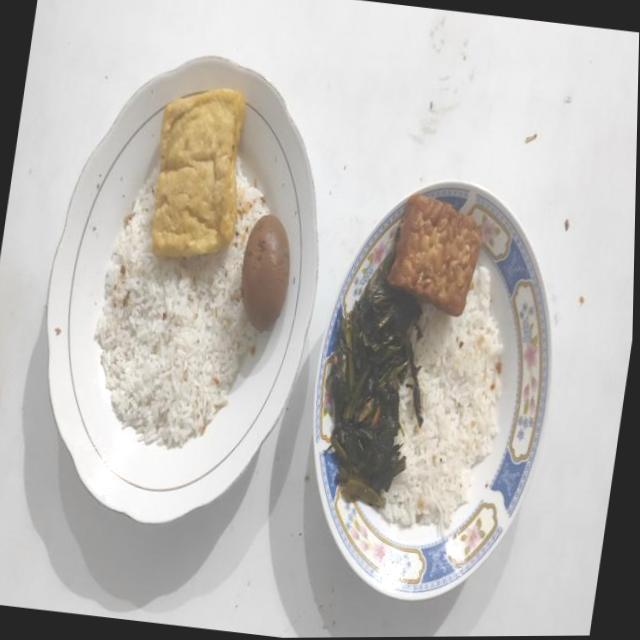nasi_putih: (94, 158, 268, 448), (383, 267, 502, 531)
tahu_goreng: (152, 88, 246, 256)
tempe_goreng: (387, 194, 481, 316)
tumis_kangkung: (328, 255, 422, 508)
